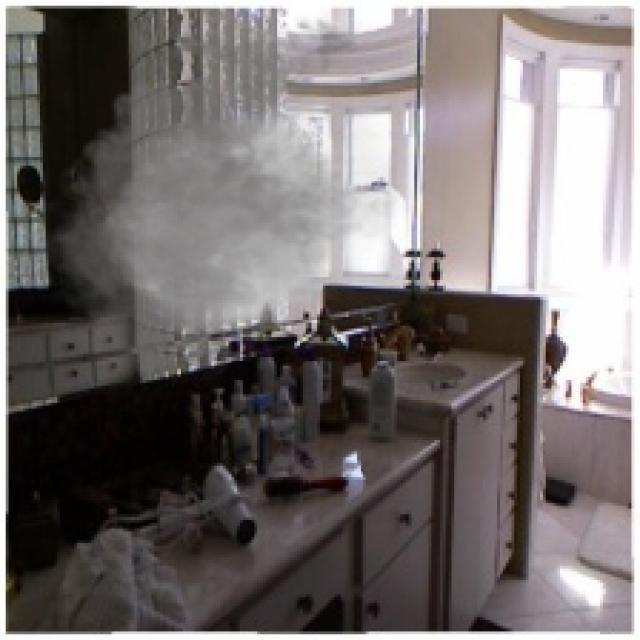Smoke: (31, 6, 423, 392)
